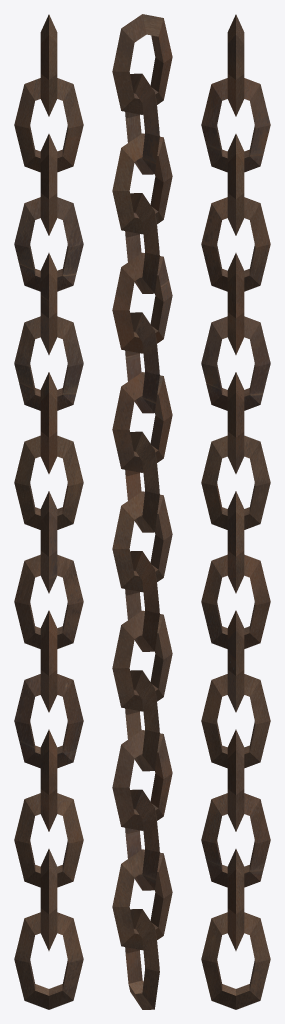
The model's file is chain_GEO.fbx.
3 renders of one model, left to right at view 1: azimuth 90°, elevation 25°; view 2: azimuth 210°, elevation 25°; view 3: azimuth 270°, elevation 25°, orthographic.
Visible parts, largest first — view 1: Torus.003; view 2: Torus.003; view 3: Torus.003.
Boxes of the visible parts, x1,y1,x2,y2 form: Torus.003: (14, 14, 83, 1009); Torus.003: (112, 14, 172, 1009); Torus.003: (201, 14, 270, 1009).
Size of the model in its own units: 0.2215 by 3.5 by 0.2215.
